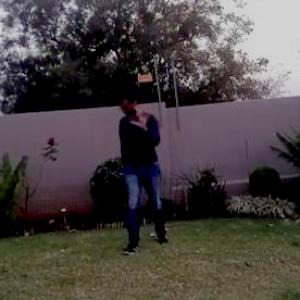follow_hand: (130, 102, 154, 132)
